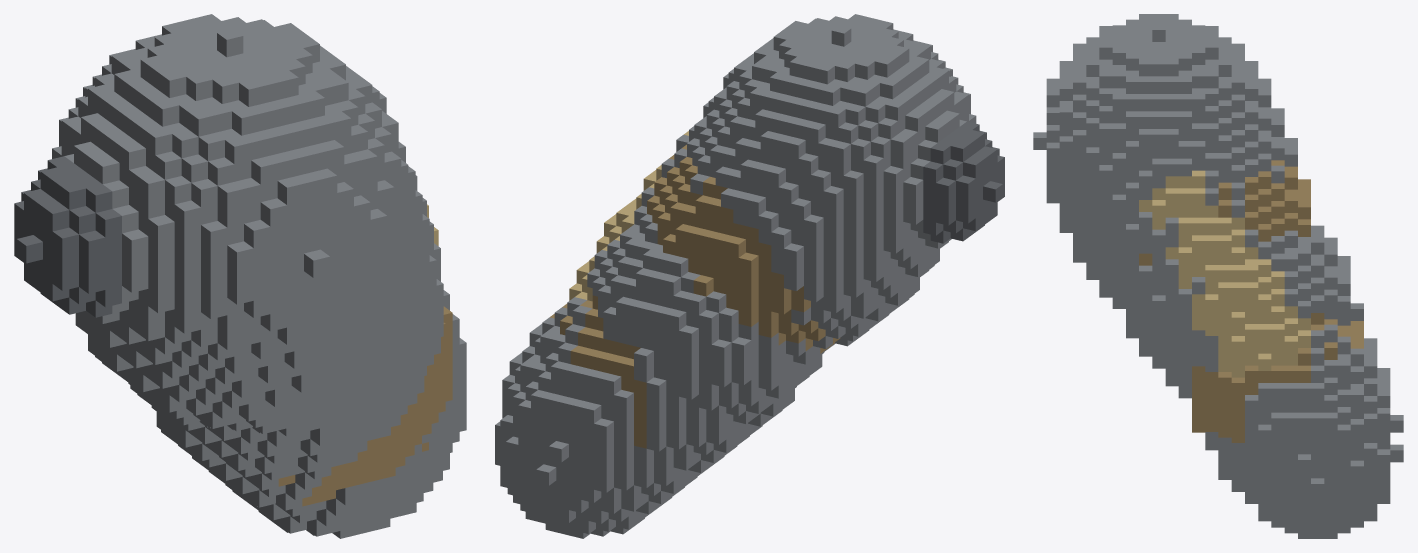
File: rb_thigh.glb
3 views of the same model, side by side, from view 1: azimuth 30°, elevation 25°; view 2: azimuth 150°, elevation 25°; view 3: azimuth 270°, elevation 25° (orthographic). The views are drawn at different scales.
Bounding box in the file's own units: 32 × 36 × 28.
